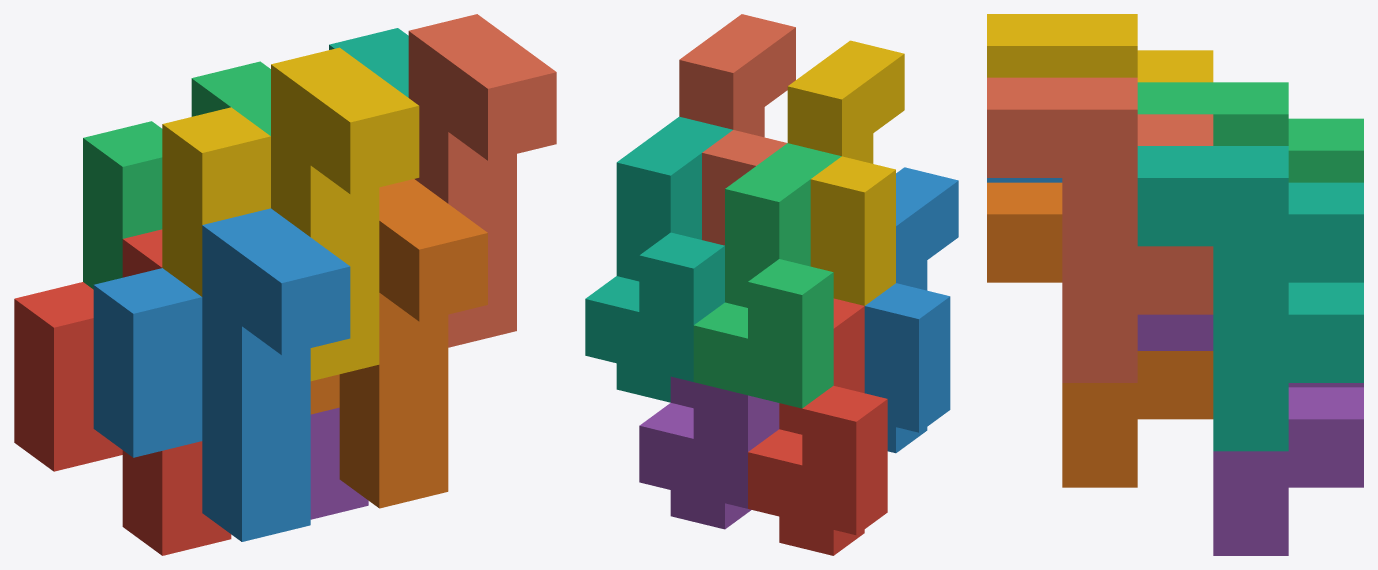
File: tiling.obj
3 views of the same model, side by side, from view 1: azimuth 30°, elevation 25°; view 2: azimuth 150°, elevation 25°; view 3: azimuth 270°, elevation 25° (orthographic). The views are drawn at different scales.
Visible parts, largest first — view 1: copy_1_domain_2, copy_1_domain_4, copy_1_domain_6, copy_1_domain_8, copy_1_domain_1, copy_1_domain_3, copy_1_domain_5, copy_1_domain_7; view 2: copy_1_domain_3, copy_1_domain_7, copy_1_domain_4, copy_1_domain_1, copy_1_domain_2, copy_1_domain_8, copy_1_domain_5; view 3: copy_1_domain_7, copy_1_domain_8, copy_1_domain_6, copy_1_domain_5, copy_1_domain_3, copy_1_domain_4.
Part boxes in pixels (<box>): copy_1_domain_2: <box>93,208,350,541</box>; copy_1_domain_4: <box>162,47,419,381</box>; copy_1_domain_6: <box>310,179,487,508</box>; copy_1_domain_8: <box>408,14,556,347</box>; copy_1_domain_1: <box>14,229,231,555</box>; copy_1_domain_3: <box>83,61,270,289</box>; copy_1_domain_5: <box>310,407,368,519</box>; copy_1_domain_7: <box>329,28,408,97</box>; copy_1_domain_3: <box>693,143,841,408</box>; copy_1_domain_7: <box>585,116,732,402</box>; copy_1_domain_4: <box>787,40,904,305</box>; copy_1_domain_1: <box>748,298,887,555</box>; copy_1_domain_2: <box>864,167,958,453</box>; copy_1_domain_8: <box>679,14,795,245</box>; copy_1_domain_5: <box>639,376,779,529</box>; copy_1_domain_7: <box>1137,146,1363,451</box>; copy_1_domain_8: <box>987,77,1213,382</box>; copy_1_domain_6: <box>987,182,1213,487</box>; copy_1_domain_5: <box>1137,314,1363,555</box>; copy_1_domain_3: <box>1137,82,1363,182</box>; copy_1_domain_4: <box>987,14,1213,82</box>.
Size of the model in its own units: 5 by 7 by 5.
